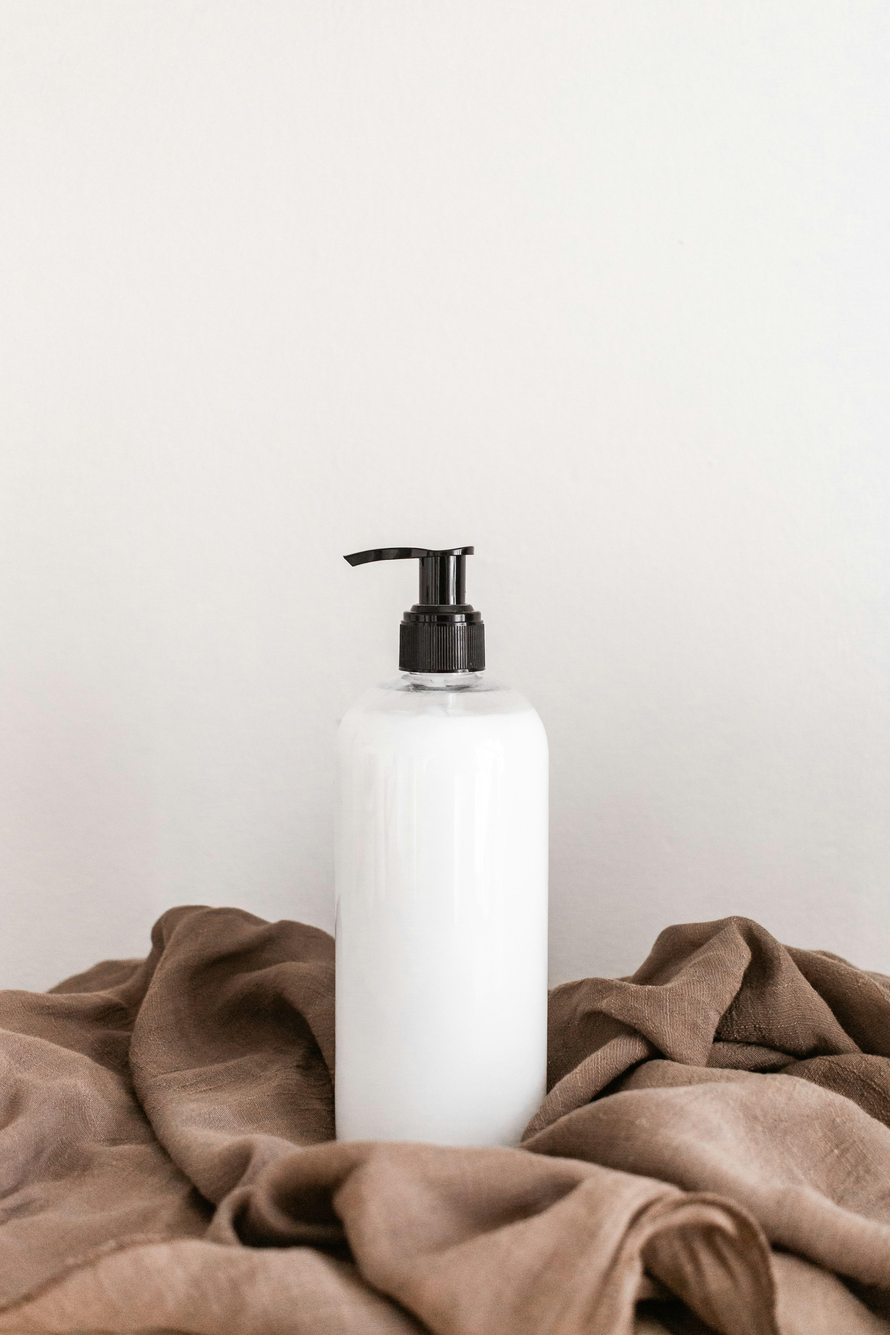Bottle-Detection: (232, 484, 641, 1254)
